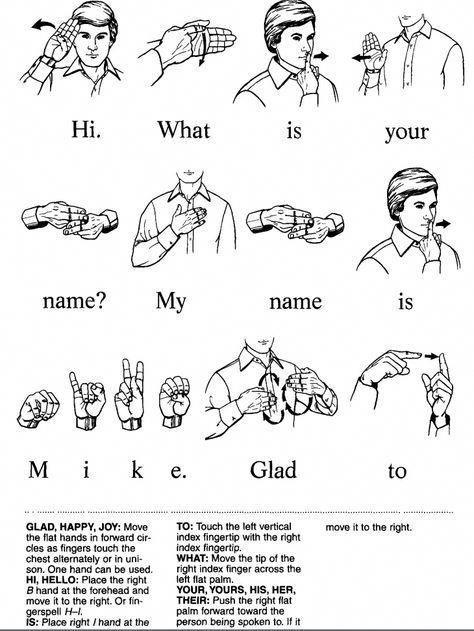Hello: (19, 13, 88, 73)
